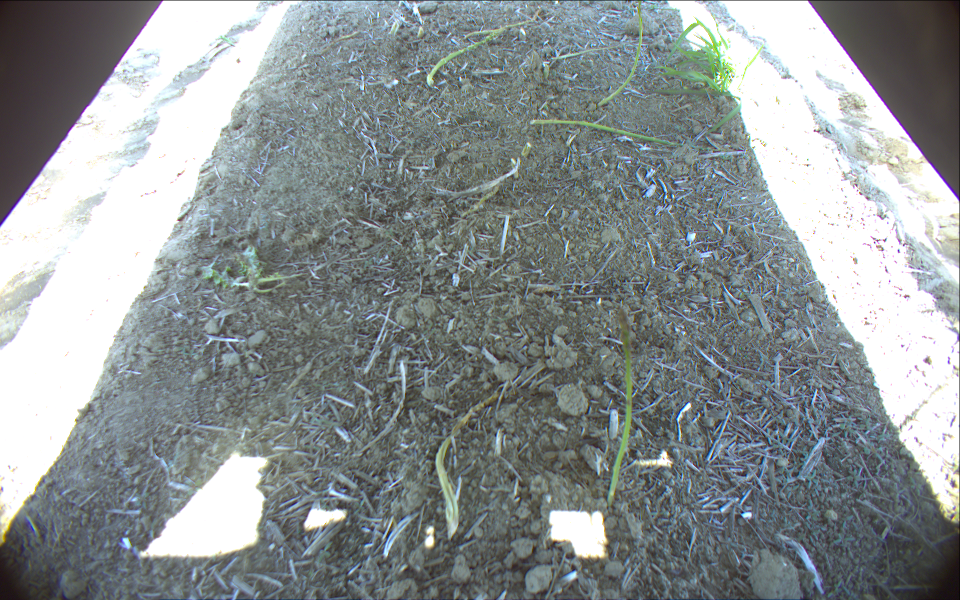aspa: (436, 390, 500, 537), (607, 308, 634, 503), (597, 1, 644, 106), (426, 30, 504, 89), (531, 118, 688, 147), (466, 9, 542, 40), (552, 40, 655, 59), (457, 180, 505, 219), (314, 30, 361, 55), (389, 18, 399, 38)
